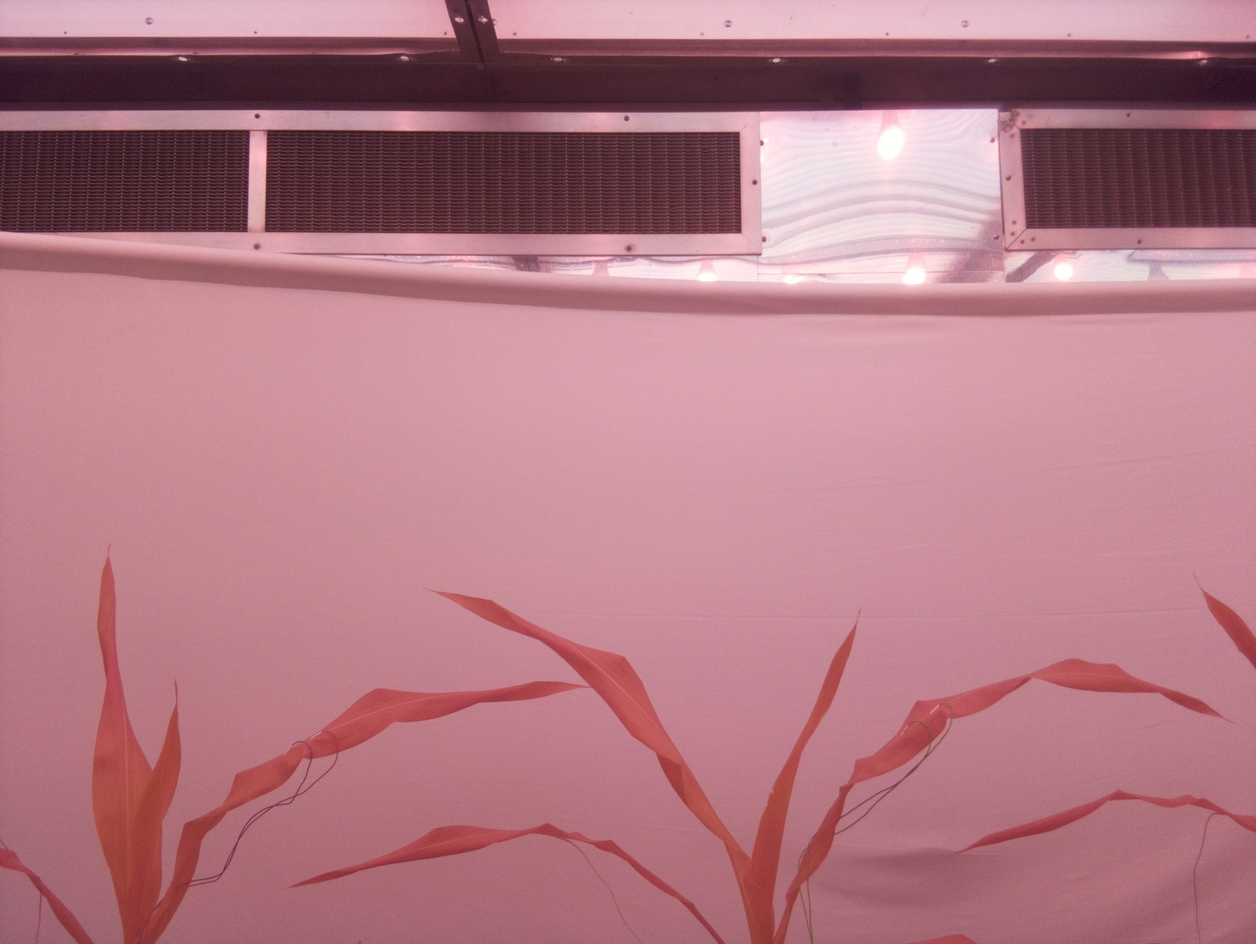maize: (284, 586, 1256, 944), (0, 543, 596, 944), (1192, 572, 1256, 670)
